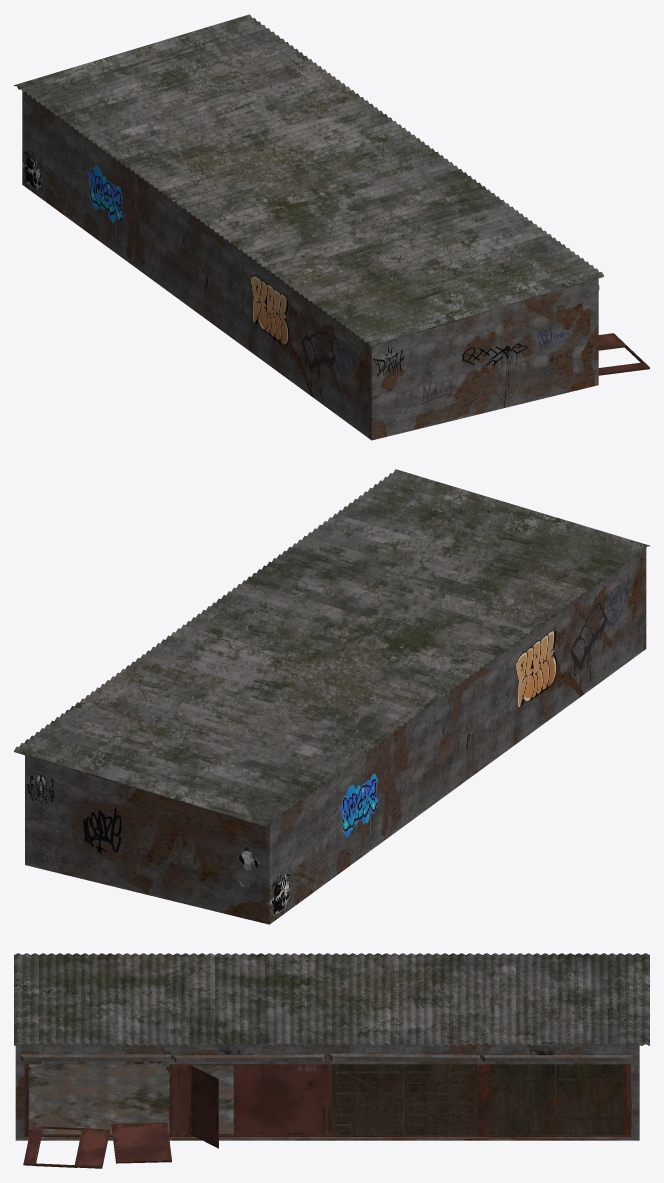
Rendered from garage_block_rusty.glb.
3 views of the same model, one above another, from view 1: azimuth 30°, elevation 25°; view 2: azimuth 150°, elevation 25°; view 3: azimuth 270°, elevation 25° (orthographic). The views are drawn at different scales.
Visible parts, largest first — view 1: garage_block_rusty; view 2: garage_block_rusty; view 3: garage_block_rusty.
Part boxes in pixels (x1,y1,x2,y2): garage_block_rusty: (14,14,649,440); garage_block_rusty: (14,469,649,924); garage_block_rusty: (14,953,649,1168).
Size of the model in its own units: 7.74 by 2.85 by 16.31.
Materials: 3 (3 with a texture image).
